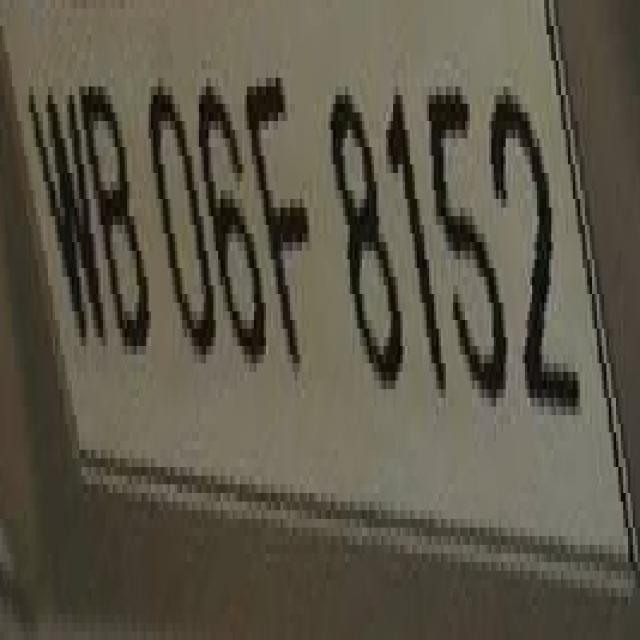license_plate: (31, 0, 633, 545)
